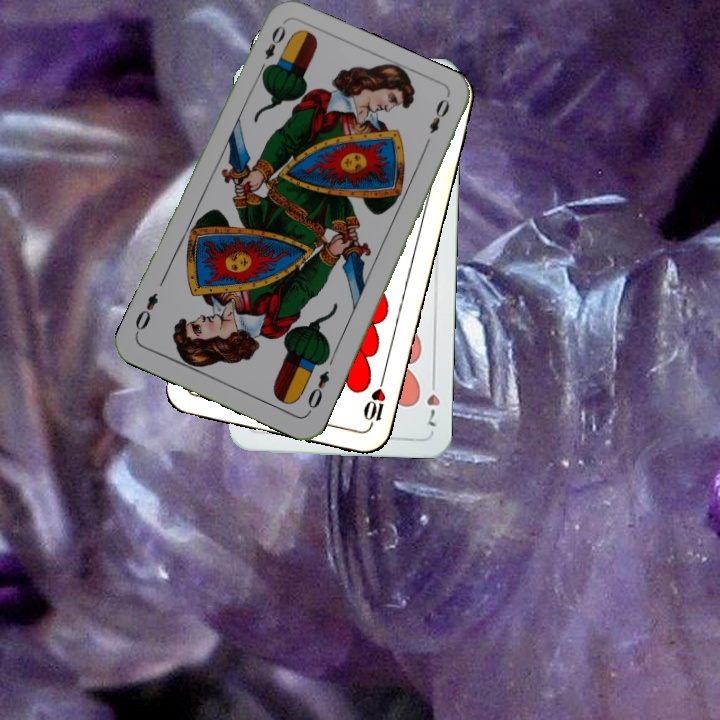EO: (255, 21, 289, 77), (303, 366, 332, 416)
H10: (359, 373, 389, 432)
H7: (422, 373, 443, 430)
